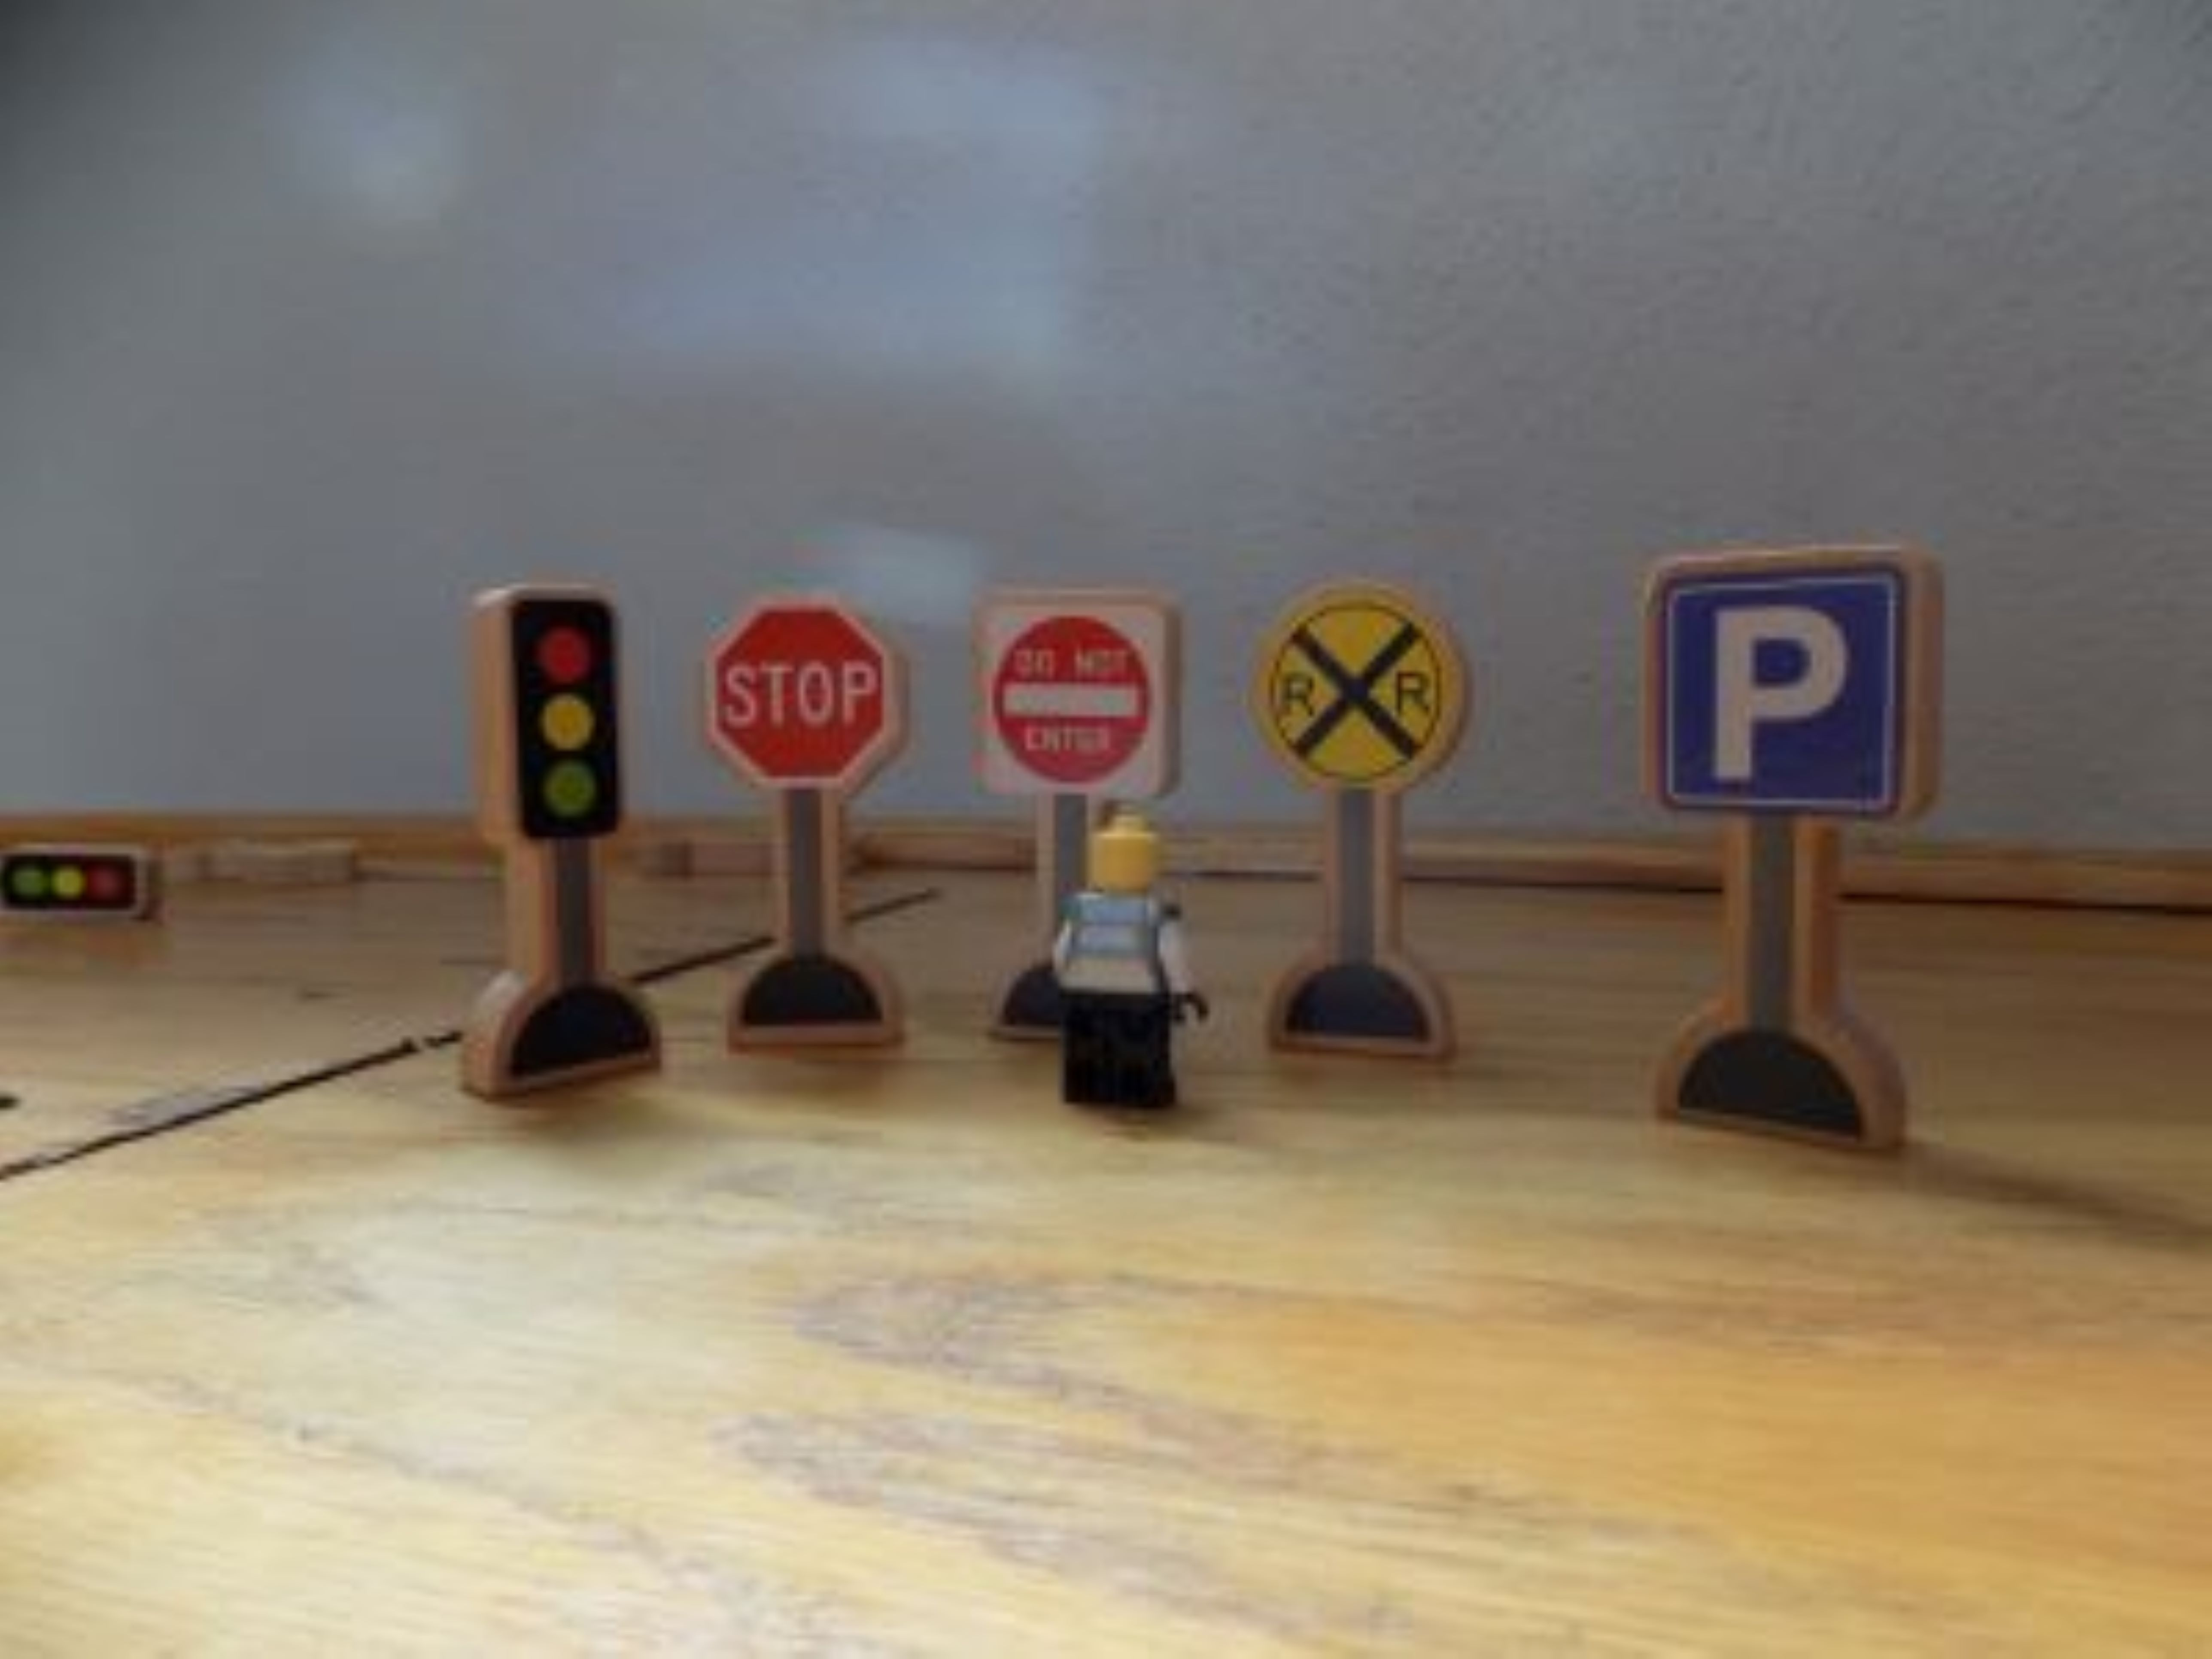Do Not Enter: (976, 592, 1170, 800)
Parking Sign: (1638, 548, 1940, 842)
Person: (1033, 809, 1224, 1118)
Rail Road Sign: (1261, 579, 1468, 800)
Red Traffic Light: (475, 587, 640, 860)
Stop Sign: (690, 591, 925, 802)
